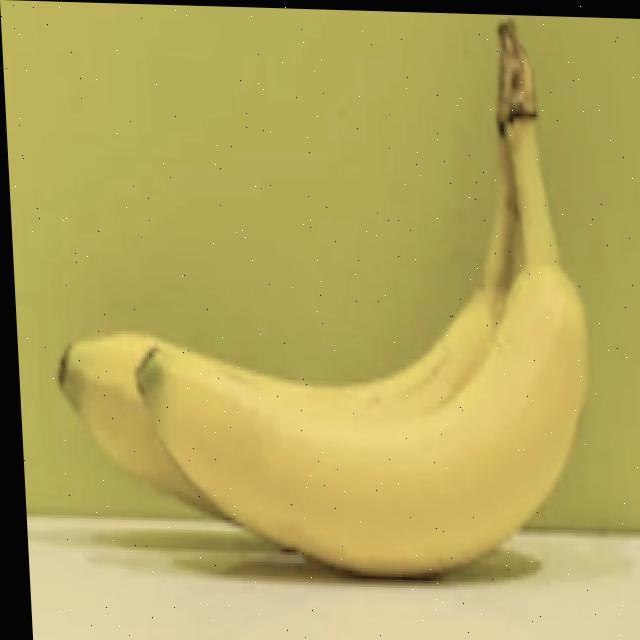banana: (37, 153, 640, 611)
